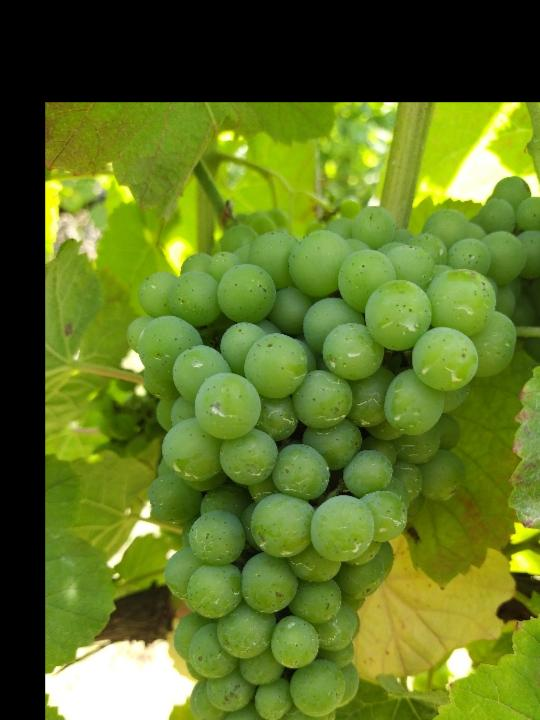grape: (121, 219, 520, 720)
